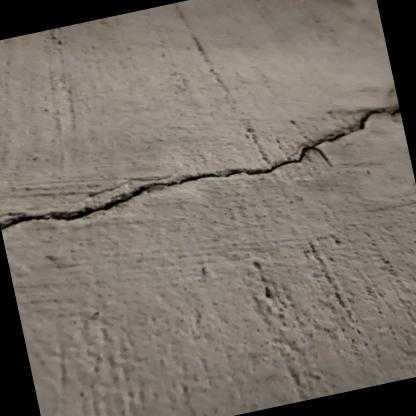crack: (0, 106, 401, 230)
